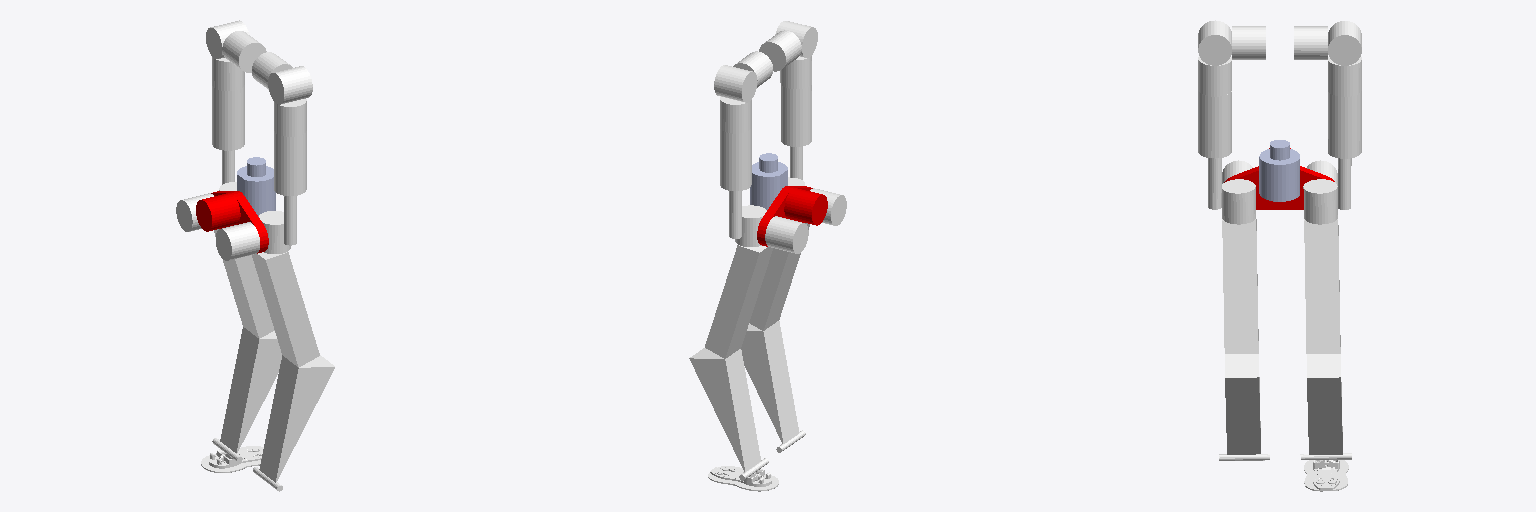
--- Facts derived from the render (not from the file) ---
Views: 3 orthographic renders of the robot side by side, from view 1: azimuth 30°, elevation 25°; view 2: azimuth 150°, elevation 25°; view 3: azimuth 270°, elevation 25°.
Model cowa_humanoid with 23 links and 22 joints (22 revolute), rooted at base_link, posed every joint at zero.
Links seen in each view (by area): view 1: right_knee_link, left_knee_link, right_leg_pitch_link, right_shoulder_roll_link, left_leg_pitch_link, base_link, left_arm_yaw_link, right_arm_yaw_link, left_shoulder_roll_link, waist_roll_link, right_leg_roll_link, left_shoulder_pitch_link (+5 smaller); view 2: left_knee_link, left_leg_pitch_link, right_knee_link, left_shoulder_roll_link, right_leg_pitch_link, base_link, left_arm_yaw_link, right_arm_yaw_link, right_shoulder_roll_link, waist_roll_link, left_leg_roll_link, left_ankle_roll_link (+5 smaller); view 3: right_leg_pitch_link, left_leg_pitch_link, left_knee_link, right_knee_link, left_shoulder_roll_link, right_shoulder_roll_link, waist_roll_link, left_arm_yaw_link, right_arm_yaw_link, left_leg_yaw_link, right_leg_yaw_link, left_ankle_roll_link (+5 smaller).
Link boxes in pixels (x1,y1,x2,y2): right_knee_link: (259, 355, 334, 482); left_knee_link: (220, 327, 281, 453); right_leg_pitch_link: (252, 252, 319, 367); right_shoulder_roll_link: (268, 66, 312, 136); left_leg_pitch_link: (214, 229, 274, 338); base_link: (196, 191, 268, 253); left_arm_yaw_link: (212, 85, 244, 150); right_arm_yaw_link: (274, 131, 306, 195); left_shoulder_roll_link: (206, 20, 249, 90); waist_roll_link: (237, 157, 275, 216); right_leg_roll_link: (216, 222, 259, 260); left_shoulder_pitch_link: (222, 31, 266, 72); left_knee_link: (689, 348, 760, 471); left_leg_pitch_link: (705, 245, 772, 358); right_knee_link: (741, 321, 798, 443); left_shoulder_roll_link: (714, 65, 757, 133); right_leg_pitch_link: (749, 223, 809, 330); base_link: (757, 186, 827, 246); left_arm_yaw_link: (720, 128, 751, 190); right_arm_yaw_link: (781, 85, 811, 146); right_shoulder_roll_link: (775, 21, 817, 88); waist_roll_link: (750, 153, 787, 209); left_leg_roll_link: (765, 216, 808, 253); left_ankle_roll_link: (708, 466, 778, 491); right_leg_pitch_link: (1222, 219, 1258, 353); left_leg_pitch_link: (1304, 219, 1340, 353); left_knee_link: (1307, 354, 1342, 454); right_knee_link: (1225, 354, 1260, 454); left_shoulder_roll_link: (1328, 21, 1361, 96); right_shoulder_roll_link: (1198, 20, 1231, 96); waist_roll_link: (1259, 140, 1299, 201); left_arm_yaw_link: (1328, 91, 1361, 158); right_arm_yaw_link: (1198, 91, 1231, 158); left_leg_yaw_link: (1303, 179, 1337, 224); right_leg_yaw_link: (1222, 179, 1255, 224); left_ankle_roll_link: (1304, 460, 1348, 491).
Bounding box of the posed robot: 0.3713 × 0.4802 × 1.45 m (x, y, z).
21 mesh visuals loaded from 22 distinct referenced files (20 binary STL); not drawn: 2 (reference not matched to a file when rendering).

URDF robot description (cowa_humanoid):
<?xml version="1.0" encoding="utf-8"?>
<!-- This URDF was automatically created by SolidWorks to URDF Exporter! Originally created by Stephen Brawner ([email redacted]) 
     Commit Version: 1.6.0-4-g7f85cfe  Build Version: 1.6.7995.38578
     For more information, please see http://wiki.ros.org/sw_urdf_exporter -->
     <!--大脚-->
<robot
  name="cowa_humanoid">
  <mujoco>
  <compiler 
    meshdir="../meshes" 
    balanceinertia="true" 
    discardvisual="false" />
  </mujoco>
  <link
    name="base_link">
    <inertial>
      <origin
        xyz="-0.0961662823726544 -1.03511339119498E-09 -0.162578216580196"
        rpy="0 0 0" />
      <mass
        value="4" />
      <inertia
        ixx="0.0227"
        ixy="0"
        ixz="0"
        iyy="0.0056068"
        iyz="0"
        izz="0.020062" />
    </inertial>
    <visual>
      <origin
        xyz="0 0 0"
        rpy="0 0 0" />
      <geometry>
        <mesh
          filename="../meshes/base_link.STL" />
      </geometry>
      <material
        name="">
        <color
          rgba="1 0 0 1" />
      </material>
    </visual>
    <collision>
      <origin
        xyz="0 0 0"
        rpy="0 0 0" />
      <geometry>
        <mesh
          filename="../meshes/base_link.STL" />
      </geometry>
    </collision>
  </link>
  <!--===========================下肢线=================================-->
  <link
    name="left_leg_roll_link">
    <inertial>
      <origin
        xyz="8.10983225019157E-17 2.91433543964104E-16 0.0800000000000171"
        rpy="0 0 0" />
      <mass
        value="2.7" />
      <inertia
        ixx="0.0052"
        ixy="0"
        ixz="0"
        iyy="0.005213"
        iyz="0"
        izz="0.003441" />
    </inertial>
    <visual>
      <origin
        xyz="0 0 0"
        rpy="0 0 0" />
      <geometry>
        <mesh
          filename="../meshes/left_leg_roll_link.STL" />
      </geometry>
      <material
        name="">
        <color
          rgba="1 1 1 1" />
      </material>
    </visual>
    <collision>
      <origin
        xyz="0 0 0"
        rpy="0 0 0" />
      <geometry>
        <mesh
          filename="../meshes/left_leg_roll_link.STL" />
      </geometry>
    </collision>
  </link>
  <joint
    name="left_leg_roll_joint"
    type="revolute">
    <origin
      xyz="-0.055 0.12 -0.19"
      rpy="-1.5708 1.5521 1.5708" />
    <parent
      link="base_link" />
    <child
      link="left_leg_roll_link" />
    <axis
      xyz="0 0 1" />
    <limit
      lower="-2.5"
      upper="0.12"
      effort="100"
      velocity="3.14" />
  </joint>
  <link
    name="left_leg_yaw_link">
    <inertial>
      <origin
        xyz="1.3878E-17 -1.3878E-17 -2.6021E-18"
        rpy="0 0 0" />
      <mass
        value="2.7" />
      <inertia
        ixx="0.0052"
        ixy="0"
        ixz="0"
        iyy="0.0052"
        iyz="0"
        izz="0.0035935" />
    </inertial>
    <visual>
      <origin
        xyz="0 0 0"
        rpy="0 0 0" />
      <geometry>
        <mesh
          filename="../meshes/left_leg_yaw_link.STL" />
      </geometry>
      <material
        name="">
        <color
          rgba="1 1 1 1" />
      </material>
    </visual>
    <collision>
      <origin
        xyz="0 0 0"
        rpy="0 0 0" />
      <geometry>
        <mesh
          filename="../meshes/left_leg_yaw_link.STL" />
      </geometry>
    </collision>
  </link>
  <joint
    name="left_leg_yaw_joint"
    type="revolute">
    <origin
      xyz="0 0 -0.05"
      rpy="0 1.5708 0" />
    <parent
      link="left_leg_roll_link" />
    <child
      link="left_leg_yaw_link" />
    <axis
      xyz="0 0 1" />
    <limit
      lower="-0.5"
      upper="0.5"
      effort="100"
      velocity="3.14" />
  </joint>
  <link
    name="left_leg_pitch_link">
    <inertial>
      <origin
        xyz="0.194289718821747 -0.0397207882444419 2.35922392732846E-16"
        rpy="0 0 0" />
      <mass
        value="8.7" />
      <inertia
        ixx="0.041831"
        ixy="0"
        ixz="0"
        iyy="0.092251"
        iyz="0"
        izz="0.12259" />
    </inertial>
    <visual>
      <origin
        xyz="0 0 0"
        rpy="0 0 0" />
      <geometry>
        <mesh
          filename="../meshes/left_leg_pitch_link.STL" />
      </geometry>
      <material
        name="">
        <color
          rgba="1 1 1 1" />
      </material>
    </visual>
    <collision>
      <origin
        xyz="0 0 0"
        rpy="0 0 0" />
      <geometry>
        <mesh
          filename="../meshes/left_leg_pitch_link.STL" />
      </geometry>
    </collision>
  </link>
  <joint
    name="left_leg_pitch_joint"
    type="revolute">
    <origin
      xyz="0.02 0 0.05"
      rpy="-1.5708 -1.2741 0" />
    <parent
      link="left_leg_yaw_link" />
    <child
      link="left_leg_pitch_link" />
    <axis
      xyz="0 0 1" />
    <limit
      lower="0"
      upper="2"
      effort="250"
      velocity="2" />
  </joint>
  <link
    name="left_knee_link">
    <inertial>
      <origin
        xyz="0.129618 -0.044385301553616 0.00407623044892469"
        rpy="0 0 0" />
      <mass
        value="3.0353" />
      <inertia
        ixx="0.00702"
        ixy="0"
        ixz="0"
        iyy="0.0242"
        iyz="0"
        izz="0.024364" />
    </inertial>
    <visual>
      <origin
        xyz="0 0 0"
        rpy="0 0 0" />
      <geometry>
        <mesh
          filename="../meshes/left_knee_link.STL" />
      </geometry>
      <material
        name="">
        <color
          rgba="1 1 1 1" />
      </material>
    </visual>
    <collision>
      <origin
        xyz="0 0 0"
        rpy="0 0 0" />
      <geometry>
        <mesh
          filename="../meshes/left_knee_link.STL" />
      </geometry>
    </collision>
  </link>
  <joint
    name="left_knee_joint"
    type="revolute">
    <origin
      xyz="0.39649 -0.07893 0"
      rpy="-3.05 0 -0.50221" />
    <parent
      link="left_leg_pitch_link" />
    <child
      link="left_knee_link" />
    <axis
      xyz="0.036684 0.083773 0.99581" />
    <limit
      lower="0"
      upper="3"
      effort="250"
      velocity="1.8" />
      <!-- velocity="1.8" /> -->
  </joint>
  <link
    name="left_ankle_pitch_link">
    <inertial>
      <origin
        xyz="-3.46944695195361E-17 -1.11022302462516E-16 0.0211402934613541"
        rpy="0 0 0" />
      <mass
        value="0.5612" />
      <inertia
        ixx="0.001954"
        ixy="0"
        ixz="0"
        iyy="0.00012314"
        iyz="0"
        izz="0.002151" />
    </inertial>
    <visual>
      <origin
        xyz="0 0 0"
        rpy="0 0 0" />
      <geometry>
        <mesh
          filename="../meshes/left_ankle_pitch_link_big.STL" />
      </geometry>
      <material
        name="">
        <color
          rgba="1 1 1 1" />
      </material>
    </visual>
    <collision>
      <origin
        xyz="0 0 0"
        rpy="0 0 0" />
      <geometry>
        <mesh
          filename="../meshes/left_ankle_pitch_link_big.STL" />
      </geometry>
    </collision>
  </link>
  <joint
    name="left_ankle_pitch_joint"
    type="revolute">
    <origin
      xyz="0.388854 0.00193333361784048 0.0210517037019404"
      rpy="-3.12285195038096 -0.0896477341098247 -1.77716881310355" />
    <parent
      link="left_knee_link" />
    <child
      link="left_ankle_pitch_link" />
    <axis
      xyz="0 0 1" />
    <limit
      lower="-0.6"
      upper="0.6"
      effort="75"
      velocity="1.57" />
  </joint>
  <link
    name="left_ankle_roll_link">
    <inertial>
      <origin
        xyz="-0.27228480773617 -0.0169888487847696 0.025"
        rpy="0 0 0" />
      <mass
        value="0.5612" />
      <inertia
        ixx="0.001954"
        ixy="0"
        ixz="0"
        iyy="0.00012314"
        iyz="0"
        izz="0.002151" />
    </inertial>
    <visual>
      <origin
        xyz="0 0 0"
        rpy="0 0 0" />
      <geometry>
        <mesh
          filename="../meshes/left_ankle_roll_link_new.STL" />
      </geometry>
      <material
        name="">
        <color
          rgba="1 1 1 1" />
      </material>
    </visual>
    <collision>
      <origin
        xyz="0 0 0"
        rpy="0 0 0" />
      <geometry>
        <mesh
          filename="../meshes/left_ankle_roll_link_new.STL" />
      </geometry>
    </collision>
  </link>
  <joint
    name="left_ankle_roll_joint"
    type="revolute">
    <origin
      xyz="0 -0.0200000000000002 0.0211402934613541"
      rpy="-1.57079632679471 1.55205562358606 -1.57079632679471" />
    <parent
      link="left_ankle_pitch_link" />
    <child
      link="left_ankle_roll_link" />
    <axis
      xyz="0 0 -1" />
    <limit
      lower="-0.2"
      upper="0.2"
      effort="75"
      velocity="1.2" />
  </joint>
  <link
    name="right_leg_roll_link">
    <inertial>
      <origin
        xyz="1.6792E-14 -8.3267E-17 -0.08"
        rpy="0 0 0" />
      <mass
        value="2.7" />
      <inertia
        ixx="0.0052"
        ixy="0"
        ixz="0"
        iyy="0.005213"
        iyz="0"
        izz="0.003441" />
    </inertial>
    <visual>
      <origin
        xyz="0 0 0"
        rpy="0 0 0" />
      <geometry>
        <mesh
          filename="../meshes/right_leg_roll_link.STL" />
      </geometry>
      <material
        name="">
        <color
          rgba="1 1 1 1" />
      </material>
    </visual>
    <collision>
      <origin
        xyz="0 0 0"
        rpy="0 0 0" />
      <geometry>
        <mesh
          filename="../meshes/right_leg_roll_link.STL" />
      </geometry>
    </collision>
  </link>
  <joint
    name="right_leg_roll_joint"
    type="revolute">
    <origin
      xyz="-0.055 -0.12 -0.19"
      rpy="1.5708 1.5521 1.5708" />
    <parent
      link="base_link" />
    <child
      link="right_leg_roll_link" />
    <axis
      xyz="0 0 1" />
    <limit
      lower="-2.5"
      upper="0.12"
      effort="100"
      velocity="3.14" />
  </joint>
  <link
    name="right_leg_yaw_link">
    <inertial>
      <origin
        xyz="1.0131E-15 -8.3267E-17 -1.6859E-14"
        rpy="0 0 0" />
      <mass
        value="2.7" />
      <inertia
        ixx="0.0052"
        ixy="0"
        ixz="0"
        iyy="0.0052"
        iyz="0"
        izz="0.0035935" />
    </inertial>
    <visual>
      <origin
        xyz="0 0 0"
        rpy="0 0 0" />
      <geometry>
        <mesh
          filename="../meshes/right_leg_yaw_link.STL" />
      </geometry>
      <material
        name="">
        <color
          rgba="1 1 1 1" />
      </material>
    </visual>
    <collision>
      <origin
        xyz="0 0 0"
        rpy="0 0 0" />
      <geometry>
        <mesh
          filename="../meshes/right_leg_yaw_link.STL" />
      </geometry>
    </collision>
  </link>
  <joint
    name="right_leg_yaw_joint"
    type="revolute">
    <origin
      xyz="0 0 0.05"
      rpy="3.1416 -1.5708 0" />
    <parent
      link="right_leg_roll_link" />
    <child
      link="right_leg_yaw_link" />
    <axis
      xyz="0 0 -1" />
    <limit
      lower="-0.5"
      upper="0.5"
      effort="100"
      velocity="3.14" />
  </joint>
  <link
    name="right_leg_pitch_link">
    <inertial>
      <origin
        xyz="0.194289718821747 -0.0397207882444419 -2.08166817117217E-16"
        rpy="0 0 0" />
      <mass
        value="8.7" />
      <inertia
        ixx="0.041831"
        ixy="0"
        ixz="0"
        iyy="0.092251"
        iyz="0"
        izz="0.12259" />
    </inertial>
    <visual>
      <origin
        xyz="0 0 0"
        rpy="0 0 0" />
      <geometry>
        <mesh
          filename="../meshes/right_leg_pitch_link.STL" />
      </geometry>
      <material
        name="">
        <color
          rgba="1 1 1 1" />
      </material>
    </visual>
    <collision>
      <origin
        xyz="0 0 0"
        rpy="0 0 0" />
      <geometry>
        <mesh
          filename="../meshes/right_leg_pitch_link.STL" />
      </geometry>
    </collision>
  </link>
  <joint
    name="right_leg_pitch_joint"
    type="revolute">
    <origin
      xyz="0.02 0 0.05"
      rpy="-1.5708 -1.2741 0" />
    <parent
      link="right_leg_yaw_link" />
    <child
      link="right_leg_pitch_link" />
    <axis
      xyz="0 0 1" />
    <limit
      lower="-0."
      upper="2"
      effort="250"
      velocity="2" />
  </joint>
  <link
    name="right_knee_link">
    <inertial>
      <origin
        xyz="0.129618 0.0443853015536158 0.00407623044892474"
        rpy="0 0 0" />
      <mass
        value="3.0353" />
      <inertia
        ixx="0.00702"
        ixy="0"
        ixz="0"
        iyy="0.0242"
        iyz="0"
        izz="0.024364" />
    </inertial>
    <visual>
      <origin
        xyz="0 0 0"
        rpy="0 0 0" />
      <geometry>
        <mesh
          filename="../meshes/right_knee_link.STL" />
      </geometry>
      <material
        name="">
        <color
          rgba="1 1 1 1" />
      </material>
    </visual>
    <collision>
      <origin
        xyz="0 0 0"
        rpy="0 0 0" />
      <geometry>
        <mesh
          filename="../meshes/right_knee_link.STL" />
      </geometry>
    </collision>
  </link>
  <joint
    name="right_knee_joint"
    type="revolute">
    <origin
      xyz="0.39649 -0.07893 0"
      rpy="-0.091581 0 -0.50221" />
    <parent
      link="right_leg_pitch_link" />
    <child
      link="right_knee_link" />
    <axis
      xyz="-0.036684 0.083773 -0.99581" />
    <limit
      lower="0"
      upper="3"
      effort="250"
      velocity="1.8" />
      <!-- velocity="1.8" /> -->
  </joint>
  <link
    name="right_ankle_pitch_link">
    <inertial>
      <origin
        xyz="6.9389E-18 1.1102E-16 0"
        rpy="0 0 0" />
      <mass
        value="0.5612" />
      <inertia
        ixx="0.001954"
        ixy="0"
        ixz="0"
        iyy="0.00012314"
        iyz="0"
        izz="0.002151" />
    </inertial>
    <visual>
      <origin
        xyz="0 0 0"
        rpy="0 0 0" />
      <geometry>
        <mesh
          filename="../meshes/left_ankle_pitch_link_big.STL" />
      </geometry>
      <material
        name="">
        <color
          rgba="1 1 1 1" />
      </material>
    </visual>
    <collision>
      <origin
        xyz="0 0 0"
        rpy="0 0 0" />
      <geometry>
        <mesh
          filename="../meshes/left_ankle_pitch_link_big.STL" />
      </geometry>
    </collision>
  </link>
  <joint
    name="right_ankle_pitch_joint"
    type="revolute">
    <origin
      xyz="0.388854 0.00193333361784048 0.0210517037019404"
      rpy="3.12285195038096 -0.0896477341098247 1.77716881310355" />
    <parent
      link="right_knee_link" />
    <child
      link="right_ankle_pitch_link" />
    <axis
      xyz="0 0 -1" />
    <limit
      lower="-0.6"
      upper="0.6"
      effort="75"
      velocity="1.57" />
  </joint>
  <link
    name="right_ankle_roll_link">
    <inertial>
      <origin
        xyz="-0.000318420251686963 -0.0169888487847696 0.025"
        rpy="0 0 0" />
        <!-- xyz="-0.135641992803085 0.612073365196636 0.0228857190122595" -->
      <mass
        value="0.5612" />
      <inertia
        ixx="0.001954"
        ixy="0"
        ixz="0"
        iyy="0.00012314"
        iyz="0"
        izz="0.002151" />
    </inertial>
    <visual>
      <origin
        xyz="0 0 0"
        rpy="0 0 0" />
      <geometry>
        <mesh
          filename="../meshes/right_ankle_roll_link_new.STL" />
      </geometry>
      <material
        name="">
        <color
          rgba="1 1 1 1" />
      </material>
    </visual>
    <collision>
      <origin
        xyz="0 0 0"
        rpy="0 0 0" />
      <geometry>
        <mesh
          filename="../meshes/right_ankle_roll_link_new.STL" />
      </geometry>
    </collision>
  </link>
  <joint
    name="right_ankle_roll_joint"
    type="revolute">
    <origin
      xyz="0 0.0200000000000002 0.0211402934613541"
      rpy="-1.57079632679471 -1.55205562358606 -1.57079632679471" />
            <!-- xyz="0 -0.0200000000000002 0.0211402934613541"
      rpy="-1.57079632679471 1.55205562358606 -1.57079632679471" /> -->
    <parent
      link="right_ankle_pitch_link" />
    <child
      link="right_ankle_roll_link" />
    <axis
      xyz="0 0 1" />
    <limit
      lower="-0.2"
      upper="0.2"
      effort="75"
      velocity="1.2" />
  </joint>
<!--===========================上肢线=================================-->
  <link
    name="waist_roll_link">
    <inertial>
      <origin
        xyz="-5.2175E-18 0.046236 0.05576"
        rpy="0 0 0" />
      <mass
        value="2.7" />
      <inertia
        ixx="0.0052"
        ixy="0"
        ixz="0"
        iyy="0.005213"
        iyz="0"
        izz="0.003441" />
    </inertial>
    <visual>
      <origin
        xyz="0 0 0"
        rpy="0 0 0" />
      <geometry>
        <mesh
          filename="../meshes/waist_roll_link.STL" />
      </geometry>
      <material
        name="">
        <color
          rgba="0.79216 0.81961 0.93333 1" />
      </material>
    </visual>
    <collision>
      <origin
        xyz="0 0 0"
        rpy="0 0 0" />
      <geometry>
        <mesh
          filename="../meshes/waist_roll_link.STL" />
      </geometry>
    </collision>
  </link>
  <joint
    name="body_roll_joint"
    type="revolute">
    <origin
      xyz="-0.055 0 -0.14"
      rpy="1.5708 0 1.5708" />
    <parent
      link="base_link" />
    <child
      link="waist_roll_link" />
    <axis
      xyz="0 0 -1" />
    <limit
      lower="-0.5"
      upper="0.5"
      effort="75"
      velocity="1" />
  </joint>
  <link
    name="body_link">
    <inertial>
      <origin
        xyz="0 6.2215E-18 0.14563"
        rpy="0 0 0" />
      <mass
        value="6" />
      <inertia
        ixx="0.122300931455399"
        ixy="-6.27548739887208E-18"
        ixz="-2.56509389534329E-35"
        iyy="0.105155931455399"
        iyz="4.17705297827066E-18"
        izz="0.0676704666666667" />
    </inertial>
    <visual>
      <origin
        xyz="0 0 0"
        rpy="0 0 0" />
      <geometry>
        <mesh
          filename="../meshes/left_foot_ee_link.STL" />
      </geometry>
      <material
        name="">
        <color
          rgba="0 0 1 1" />
      </material>
    </visual>
    <collision>
      <origin
        xyz="0 0 0"
        rpy="0 0 0" />
      <geometry>
        <mesh
          filename="../meshes/left_foot_ee_link.STL" />
      </geometry>
    </collision>
  </link>
  <joint
    name="body_yaw_joint"
    type="revolute">
    <origin
      xyz="0 0.14 0.055"
      rpy="1.5708 -1.5708 3.14" />
    <parent
      link="waist_roll_link" />
    <child
      link="body_link" />
    <axis
      xyz="0 0 1" />
    <limit
      lower="-1"
      upper="1"
      effort="75"
      velocity="1" />
  </joint>
  <link
    name="left_shoulder_pitch_link">
    <inertial>
      <origin
        xyz="0 -1.11022302462516E-16 -0.05"
        rpy="0 0 0" />
      <mass
        value="2.7" />
      <inertia
        ixx="0.0052"
        ixy="0"
        ixz="0"
        iyy="0.0052"
        iyz="0"
        izz="0.0035935" />
    </inertial>
    <visual>
      <origin
        xyz="0 0 0"
        rpy="0 0 0" />
      <geometry>
        <mesh
          filename="../meshes/left_shoulder_pitch_link.STL" />
      </geometry>
      <material
        name="">
        <color
          rgba="1 1 1 1" />
      </material>
    </visual>
    <collision>
      <origin
        xyz="0 0 0"
        rpy="0 0 0" />
      <geometry>
        <mesh
          filename="../meshes/left_shoulder_pitch_link.STL" />
      </geometry>
    </collision>
  </link>
  <joint
    name="left_shoulder_pitch_joint"
    type="revolute">
    <origin
      xyz="0.010131 0.14 0.33"
      rpy="-1.5708 0 0" />
    <parent
      link="body_link" />
    <child
      link="left_shoulder_pitch_link" />
    <axis
      xyz="0 0 -1" />
    <limit
      lower="0"
      upper="0"
      effort="0"
      velocity="0" />
  </joint>
  <link
    name="left_shoulder_roll_link">
    <inertial>
      <origin
        xyz="-2.7756E-17 -0.05 0"
        rpy="0 0 0" />
      <mass
        value="2.7" />
      <inertia
        ixx="0.0052"
        ixy="0"
        ixz="0"
        iyy="0.0052"
        iyz="0"
        izz="0.0035935" />
    </inertial>
    <visual>
      <origin
        xyz="0 0 0"
        rpy="0 0 0" />
      <geometry>
        <mesh
          filename="../meshes/left_shoulder_roll_link.STL" />
      </geometry>
      <material
        name="">
        <color
          rgba="1 1 1 1" />
      </material>
    </visual>
    <collision>
      <origin
        xyz="0 0 0"
        rpy="0 0 0" />
      <geometry>
        <mesh
          filename="../meshes/left_shoulder_roll_link.STL" />
      </geometry>
    </collision>
  </link>
  <joint
    name="left_shoulder_roll_joint"
    type="revolute">
    <origin
      xyz="0 0 0.05"
      rpy="0 -1.5708 3.14" />
    <parent
      link="left_shoulder_pitch_link" />
    <child
      link="left_shoulder_roll_link" />
    <axis
      xyz="0 0 -1" />
    <limit
      lower="0"
      upper="0"
      effort="0"
      velocity="0" />
  </joint>
  <link
    name="left_arm_yaw_link">
    <inertial>
      <origin
        xyz="0 2.77555756156289E-17 0.1"
        rpy="0 0 0" />
      <mass
        value="2.7" />
      <inertia
        ixx="0.0052"
        ixy="0"
        ixz="0"
        iyy="0.0052"
        iyz="0"
        izz="0.0035935" />
    </inertial>
    <visual>
      <origin
        xyz="0 0 0"
        rpy="0 0 0" />
      <geometry>
        <mesh
          filename="../meshes/left_arm_yaw_link.STL" />
      </geometry>
      <material
        name="">
        <color
          rgba="1 1 1 1" />
      </material>
    </visual>
    <collision>
      <origin
        xyz="0 0 0"
        rpy="0 0 0" />
      <geometry>
        <mesh
          filename="../meshes/left_arm_yaw_link.STL" />
      </geometry>
    </collision>
  </link>
  <joint
    name="left_arm_yaw_joint"
    type="revolute">
    <origin
      xyz="0 -0.15 0"
      rpy="1.5708 -1.5708 0" />
    <parent
      link="left_shoulder_roll_link" />
    <child
      link="left_arm_yaw_link" />
    <axis
      xyz="0 0 -1" />
    <limit
      lower="0"
      upper="0"
      effort="0"
      velocity="0" />
  </joint>
  <link
    name="left_arm_pitch_link">
    <inertial>
      <origin
        xyz="5.55111512312578E-17 -0.09 0"
        rpy="0 0 0" />
      <mass
        value="2.7" />
      <inertia
        ixx="0.0052"
        ixy="0"
        ixz="0"
        iyy="0.0052"
        iyz="0"
        izz="0.0035935" />
    </inertial>
    <visual>
      <origin
        xyz="0 0 0"
        rpy="0 0 0" />
      <geometry>
        <mesh
          filename="../meshes/left_arm_pitch_link.STL" />
      </geometry>
      <material
        name="">
        <color
          rgba="1 1 1 1" />
      </material>
    </visual>
    <collision>
      <origin
        xyz="0 0 0"
        rpy="0 0 0" />
      <geometry>
        <mesh
          filename="../meshes/left_arm_pitch_link.STL" />
      </geometry>
    </collision>
  </link>
  <joint
    name="left_arm_pitch_joint"
    type="revolute">
    <origin
      xyz="0 0 0.2"
      rpy="-1.5708 0 0" />
      <!-- rpy="-1.5708 1.5708 0" /> -->
    <parent
      link="left_arm_yaw_link" />
    <child
      link="left_arm_pitch_link" />
    <axis
      xyz="0 0 1" />
    <limit
      lower="0"
      upper="0"
      effort="0"
      velocity="0" />
  </joint>
  <link
    name="right_shoulder_pitch_link">
    <inertial>
      <origin
        xyz="1.38777878078145E-17 1.11022302462516E-16 -0.05"
        rpy="0 0 0" />
      <mass
        value="2.7" />
      <inertia
        ixx="0.0052"
        ixy="0"
        ixz="0"
        iyy="0.0052"
        iyz="0"
        izz="0.0035935" />
    </inertial>
    <visual>
      <origin
        xyz="0 0 0"
        rpy="0 0 0" />
      <geometry>
        <mesh
          filename="../meshes/right_shoulder_pitch_link.STL" />
      </geometry>
      <material
        name="">
        <color
          rgba="1 1 1 1" />
      </material>
    </visual>
    <collision>
      <origin
        xyz="0 0 0"
        rpy="0 0 0" />
      <geometry>
        <mesh
          filename="../meshes/right_shoulder_pitch_link.STL" />
      </geometry>
    </collision>
  </link>
  <joint
    name="right_shoulder_pitch_joint"
    type="revolute">
    <origin
      xyz="0.010131 -0.14 0.33"
      rpy="1.5708 0 0" />
    <parent
      link="body_link" />
    <child
      link="right_shoulder_pitch_link" />
    <axis
      xyz="0 0 -1" />
    <limit
      lower="0"
      upper="0"
      effort="0"
      velocity="0" />
  </joint>
  <link
    name="right_shoulder_roll_link">
    <inertial>
      <origin
        xyz="-2.77555756156289E-17 -0.0499999999999998 0"
        rpy="0 0 0" />
      <mass
        value="2.7" />
      <inertia
        ixx="0.0052"
        ixy="0"
        ixz="0"
        iyy="0.0052"
        iyz="0"
        izz="0.0035935" />
    </inertial>
    <visual>
      <origin
        xyz="0 0 0"
        rpy="0 0 0" />
      <geometry>
        <mesh
          filename="../meshes/right_shoulder_roll_link.STL" />
      </geometry>
      <material
        name="">
        <color
          rgba="1 1 1 1" />
      </material>
    </visual>
    <collision>
      <origin
        xyz="0 0 0"
        rpy="0 0 0" />
      <geometry>
        <mesh
          filename="../meshes/right_shoulder_roll_link.STL" />
      </geometry>
    </collision>
  </link>
  <joint
    name="right_shoulder_roll_link"
    type="revolute">
    <origin
      xyz="0 0 0.05"
      rpy="3.1416 -1.5708 3.14" />
    <parent
      link="right_shoulder_pitch_link" />
    <child
      link="right_shoulder_roll_link" />
    <axis
      xyz="0 0 1" />
    <limit
      lower="0"
      upper="0"
      effort="0"
      velocity="0" />
  </joint>
  <link
    name="right_arm_yaw_link">
    <inertial>
      <origin
        xyz="2.77555756156289E-17 0 -0.1"
        rpy="0 0 0" />
      <mass
        value="2.7" />
      <inertia
        ixx="0.0052"
        ixy="0"
        ixz="0"
        iyy="0.0052"
        iyz="0"
        izz="0.0035935" />
    </inertial>
    <visual>
      <origin
        xyz="0 0 0"
        rpy="0 0 0" />
      <geometry>
        <mesh
          filename="../meshes/right_arm_yaw_link.STL" />
      </geometry>
      <material
        name="">
        <color
          rgba="1 1 1 1" />
      </material>
    </visual>
    <collision>
      <origin
        xyz="0 0 0"
        rpy="0 0 0" />
      <geometry>
        <mesh
          filename="../meshes/right_arm_yaw_link.STL" />
      </geometry>
    </collision>
  </link>
  <joint
    name="right_arm_yaw_link"
    type="revolute">
    <origin
      xyz="0 -0.15 0"
      rpy="1.5708 0 3.1416" />
    <parent
      link="right_shoulder_roll_link" />
    <child
      link="right_arm_yaw_link" />
    <axis
      xyz="0 0 1" />
    <limit
      lower="0"
      upper="0"
      effort="0"
      velocity="0" />
  </joint>
  <link
    name="right_arm_pitch_link">
    <inertial>
      <origin
        xyz="5.55111512312578E-17 -0.0899999999999999 -2.77555756156289E-17"
        rpy="0 0 0" />
      <mass
        value="2.7" />
      <inertia
        ixx="0.0052"
        ixy="0"
        ixz="0"
        iyy="0.0052"
        iyz="0"
        izz="0.0035935" />
    </inertial>
    <visual>
      <origin
        xyz="0 0 0"
        rpy="0 0 0" />
      <geometry>
        <mesh
          filename="../meshes/right_arm_pitch_link.STL" />
      </geometry>
      <material
        name="">
        <color
          rgba="1 1 1 1" />
      </material>
    </visual>
    <collision>
      <origin
        xyz="0 0 0"
        rpy="0 0 0" />
      <geometry>
        <mesh
          filename="../meshes/right_arm_pitch_link.STL" />
      </geometry>
    </collision>
  </link>
  <joint
    name="right_arm_pitch_joint"
    type="revolute">
    <origin
      xyz="0 0 -0.2"
      rpy="1.5708 0 -1.5708" />
      <!-- rpy="1.5708 -1.5708 -1.5708" /> -->
    <parent
      link="right_arm_yaw_link" />
    <child
      link="right_arm_pitch_link" />
    <axis
      xyz="0 0 -1" />
    <limit
      lower="0"
      upper="0"
      effort="0"
      velocity="0" />
  </joint>
</robot>
